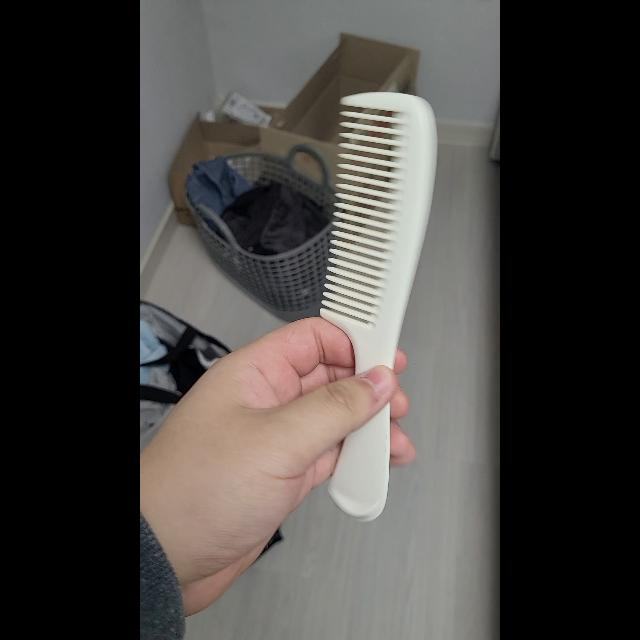COMB: (320, 92, 438, 522)
